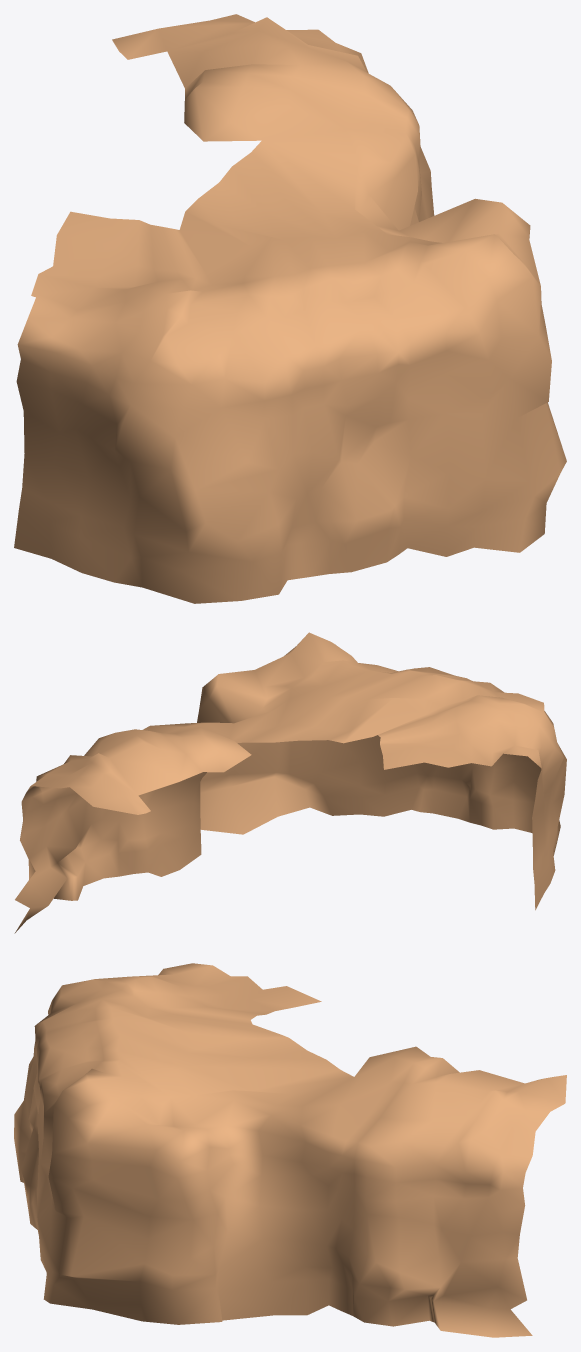
File: relief_5.low.fbx
The picture shows the model from 3 angles, top to bottom: view 1: azimuth 30°, elevation 25°; view 2: azimuth 150°, elevation 25°; view 3: azimuth 270°, elevation 25°; orthographic projection. The views are drawn at different scales.
Visible parts, largest first — view 1: relief.5.low; view 2: relief.5.low; view 3: relief.5.low.
Boxes of the visible parts, x1,y1,x2,y2 form: relief.5.low: (14, 14, 566, 603); relief.5.low: (14, 632, 566, 933); relief.5.low: (14, 963, 566, 1337).
Bounding box in the file's own units: 981 × 503 × 1099.
